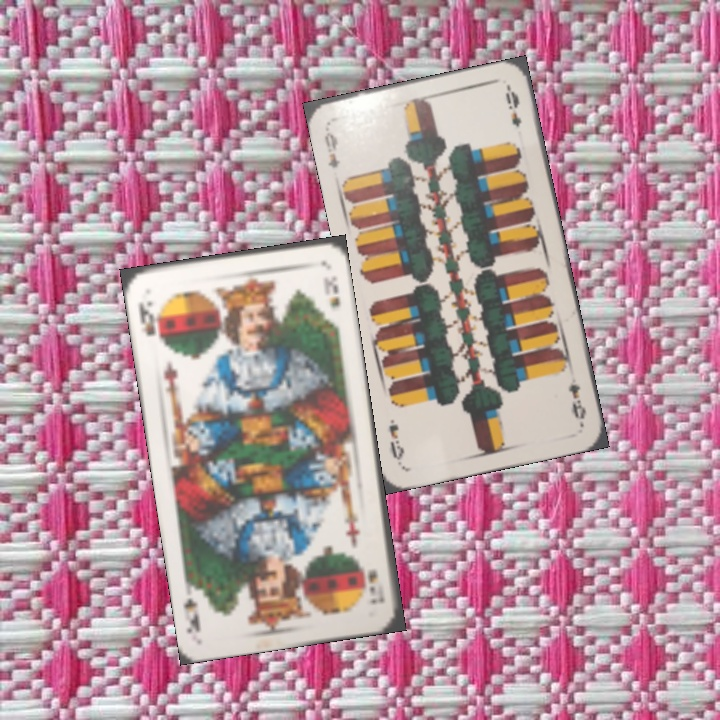E9: (564, 380, 589, 426), (320, 123, 343, 171)
SK: (134, 297, 165, 348), (363, 565, 387, 607)
